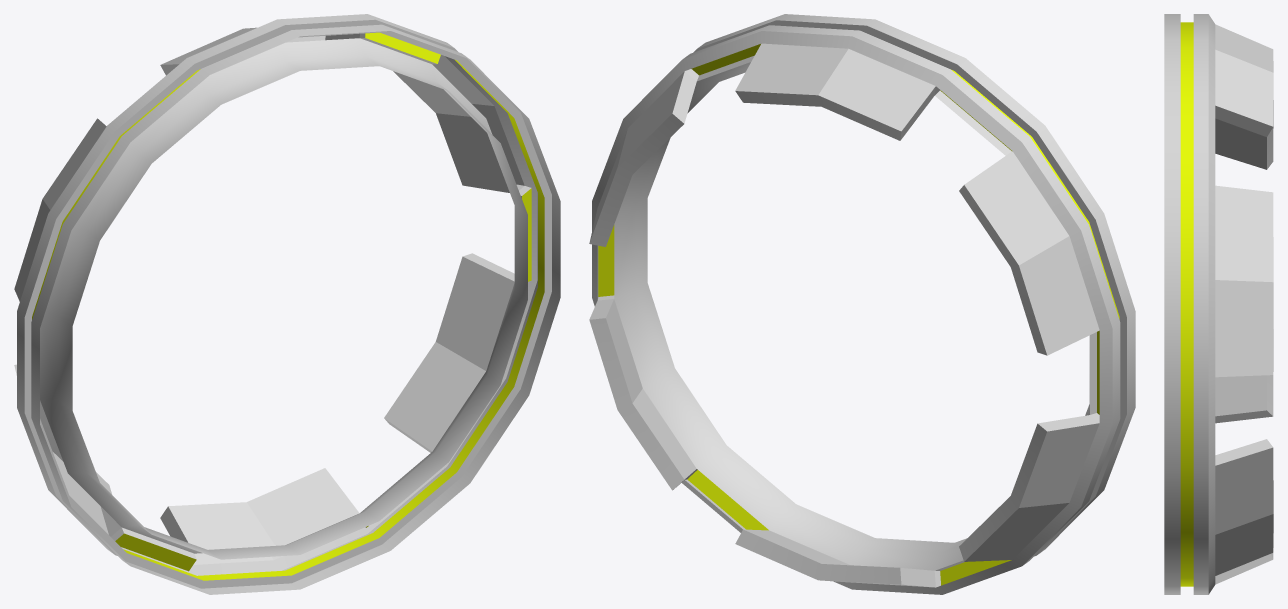
Rendered from SpeedPortal.FBX.
3 renders of one model, left to right at view 1: azimuth 30°, elevation 25°; view 2: azimuth 150°, elevation 25°; view 3: azimuth 270°, elevation 25°, orthographic. The views are drawn at different scales.
Parts seen in each view (by area): view 1: Object001; view 2: Object001; view 3: Object001.
Part boxes in pixels (box(x1,y1,x2,y2)): Object001: box(14, 14, 560, 594); Object001: box(589, 14, 1135, 594); Object001: box(1164, 14, 1273, 594).
Size of the model in its own units: 158 by 160 by 29.94.
